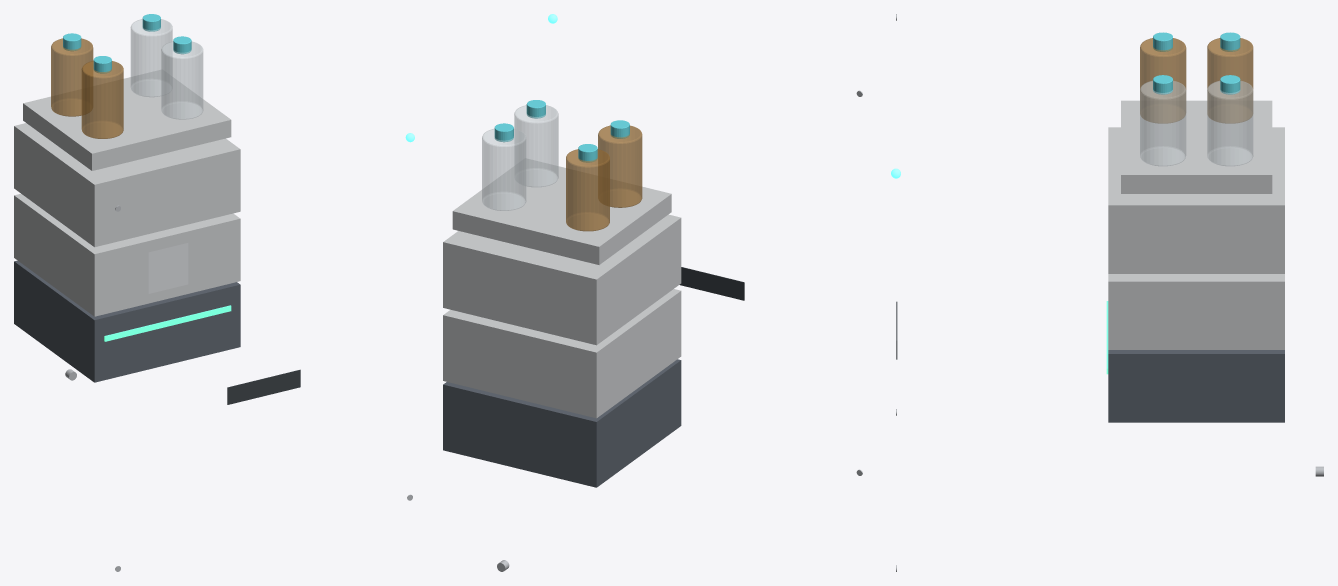
The model's file is SM_HPLC_System.glb.
3 renders of one model, left to right at view 1: azimuth 30°, elevation 25°; view 2: azimuth 150°, elevation 25°; view 3: azimuth 270°, elevation 25°, orthographic. The views are drawn at different scales.
Visible parts, largest first — view 1: HPLC_PumpModule, HPLC_AutosamplerModule, HPLC_DetectorModule, HPLC_SolventTray, HPLC_SolventBottle_2, HPLC_SolventBottle_1, HPLC_SolventBottle_4, HPLC_SolventBottle_3, HPLC_AutosamplerDoor, Detail_RatingPlate, HPLC_StatusLED; view 2: HPLC_PumpModule, HPLC_AutosamplerModule, HPLC_DetectorModule, HPLC_SolventTray, HPLC_SolventBottle_4, HPLC_SolventBottle_1, HPLC_SolventBottle_2, HPLC_SolventBottle_3, Detail_RatingPlate; view 3: HPLC_PumpModule, HPLC_AutosamplerModule, HPLC_DetectorModule, HPLC_SolventTray, HPLC_SolventBottle_4, HPLC_SolventBottle_2, HPLC_SolventBottle_3, HPLC_SolventBottle_1.
Boxes of the visible parts, x1,y1,x2,y2 form: HPLC_PumpModule: [14, 123, 240, 247]; HPLC_AutosamplerModule: [14, 193, 240, 316]; HPLC_DetectorModule: [14, 260, 240, 382]; HPLC_SolventTray: [23, 70, 231, 170]; HPLC_SolventBottle_2: [161, 41, 203, 119]; HPLC_SolventBottle_1: [81, 61, 123, 138]; HPLC_SolventBottle_4: [130, 19, 172, 97]; HPLC_SolventBottle_3: [51, 38, 93, 116]; HPLC_AutosamplerDoor: [149, 243, 187, 293]; Detail_RatingPlate: [227, 369, 300, 404]; HPLC_StatusLED: [104, 305, 231, 341]; HPLC_PumpModule: [443, 214, 681, 345]; HPLC_AutosamplerModule: [443, 289, 681, 418]; HPLC_DetectorModule: [443, 359, 681, 487]; HPLC_SolventTray: [452, 158, 671, 264]; HPLC_SolventBottle_4: [482, 129, 526, 210]; HPLC_SolventBottle_1: [598, 125, 642, 207]; HPLC_SolventBottle_2: [514, 105, 558, 187]; HPLC_SolventBottle_3: [566, 149, 609, 231]; Detail_RatingPlate: [679, 267, 744, 300]; HPLC_PumpModule: [1108, 127, 1284, 273]; HPLC_AutosamplerModule: [1108, 274, 1284, 349]; HPLC_DetectorModule: [1108, 350, 1284, 422]; HPLC_SolventTray: [1121, 100, 1272, 193]; HPLC_SolventBottle_4: [1207, 80, 1253, 166]; HPLC_SolventBottle_2: [1140, 80, 1186, 166]; HPLC_SolventBottle_3: [1207, 38, 1253, 123]; HPLC_SolventBottle_1: [1140, 38, 1186, 123].
Size of the model in its own units: 0.9 by 1.14 by 1.03.
